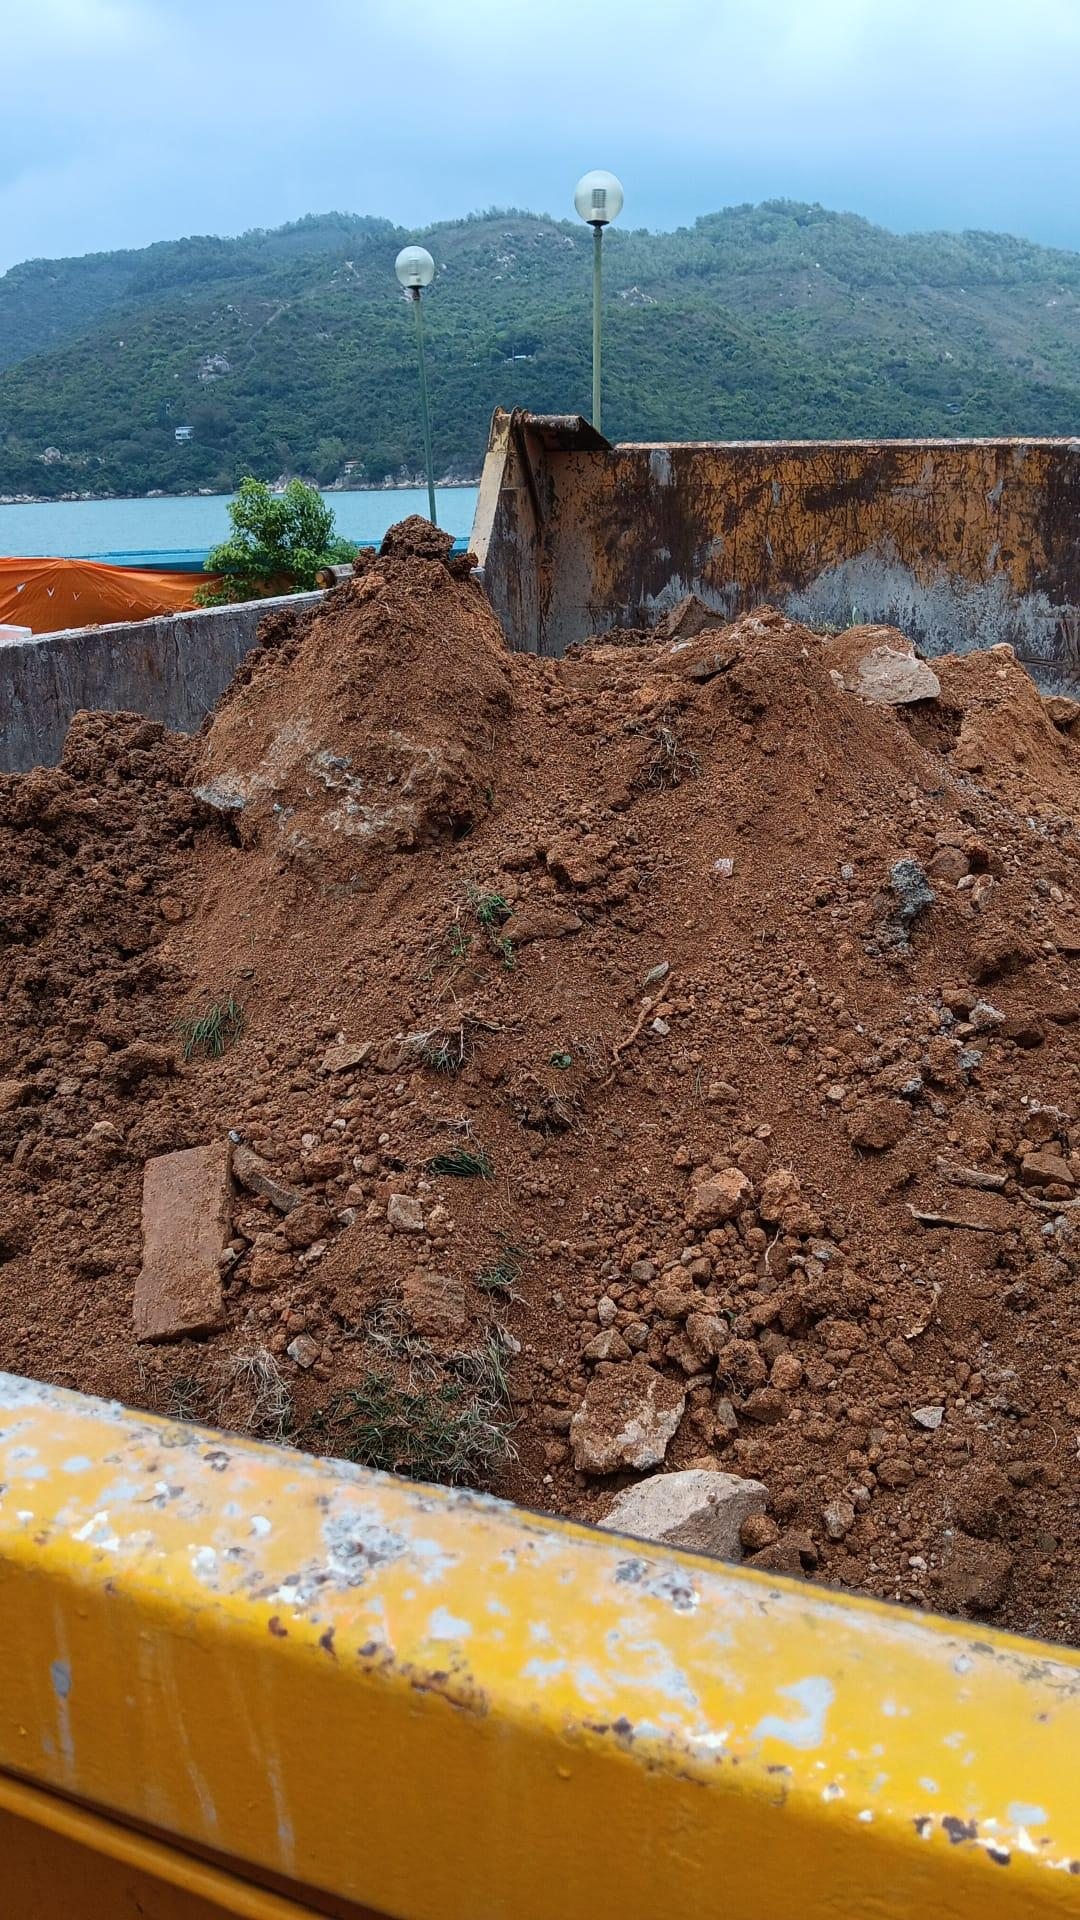dry: (7, 524, 1080, 1640)
